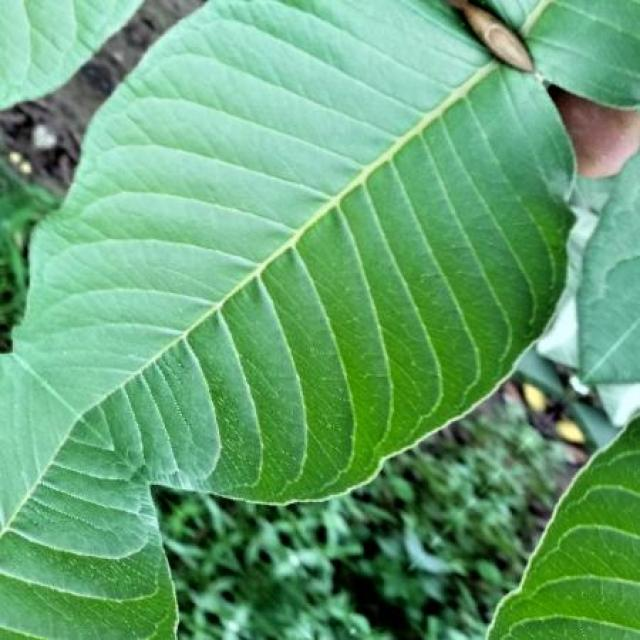Disease Free: (0, 0, 640, 639), (488, 418, 640, 639)
